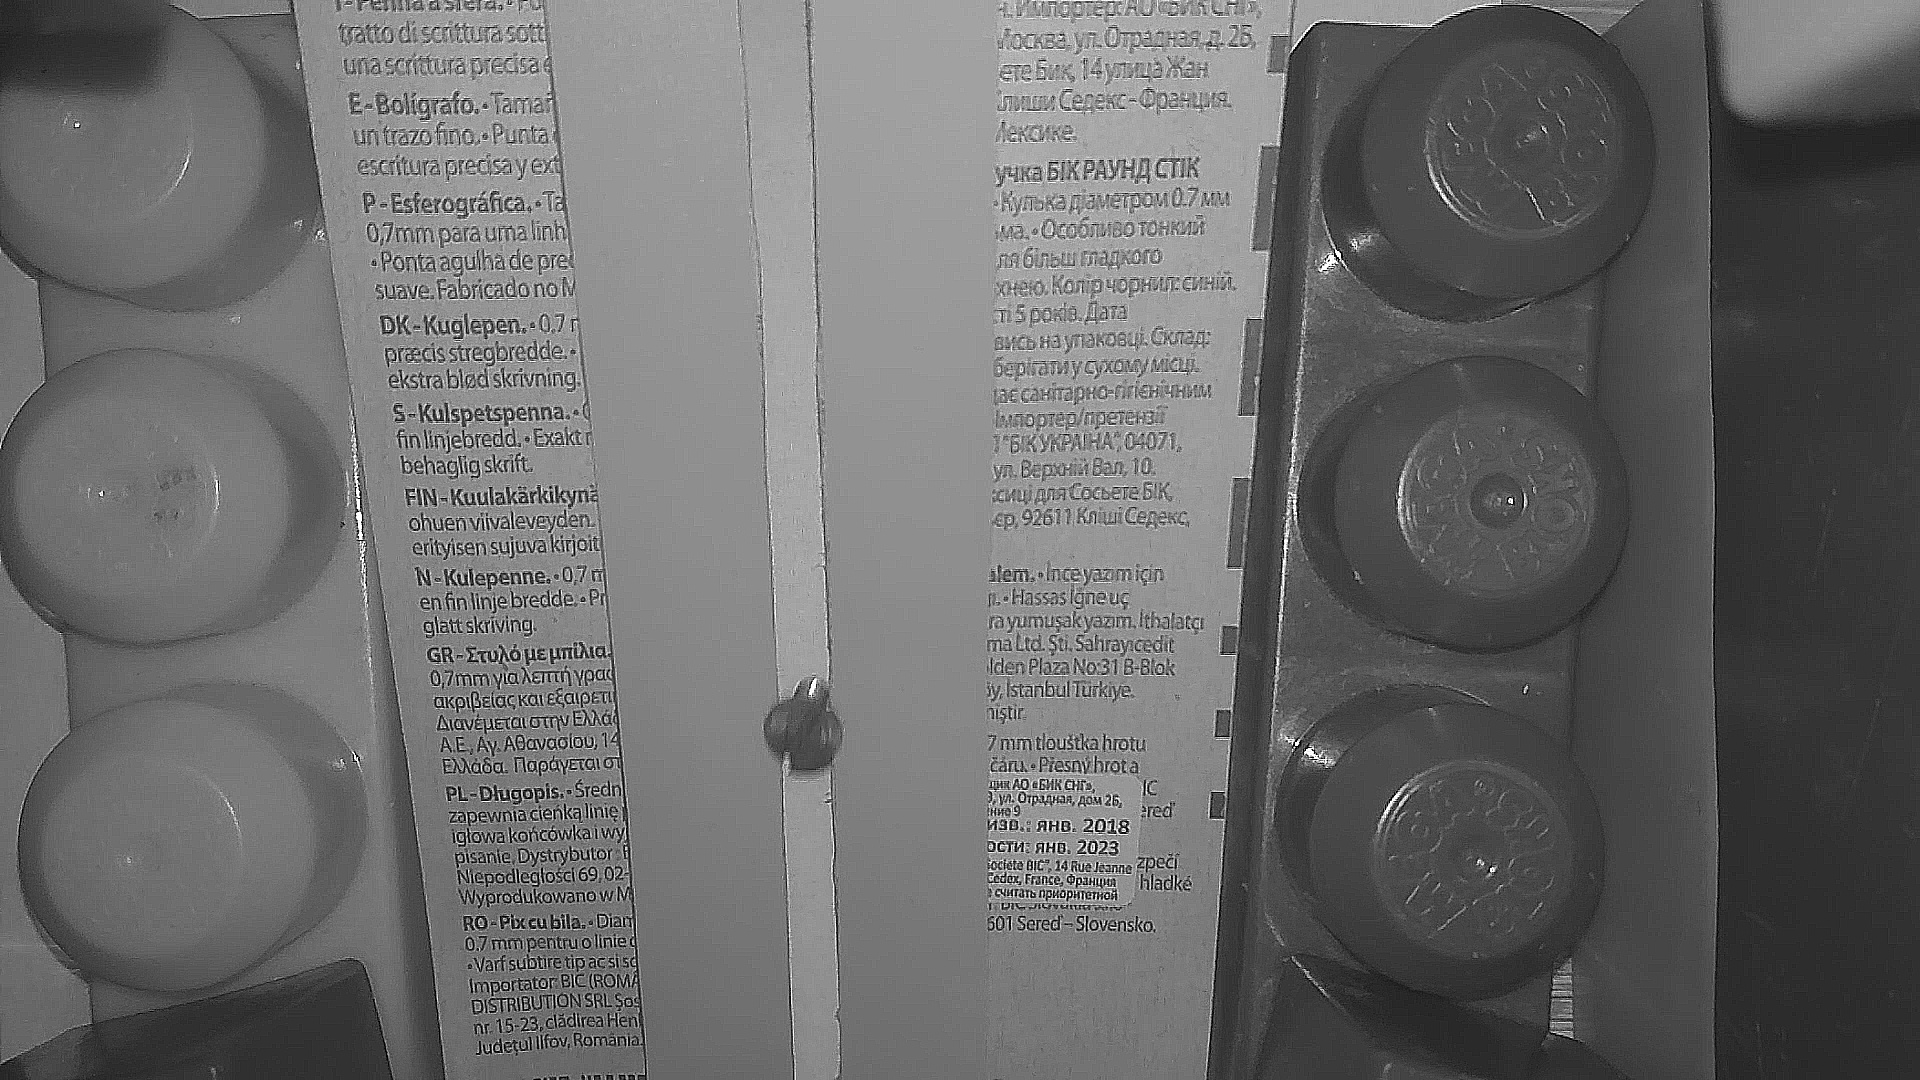i: (765, 696, 841, 774)
